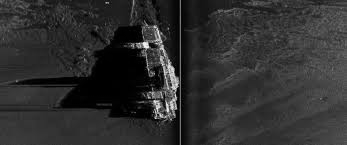ship: (119, 19, 180, 123)
